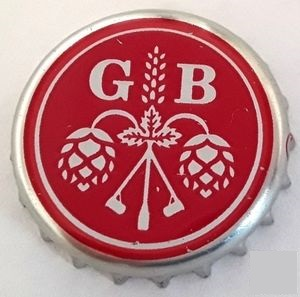grolsch: (8, 6, 297, 291)
